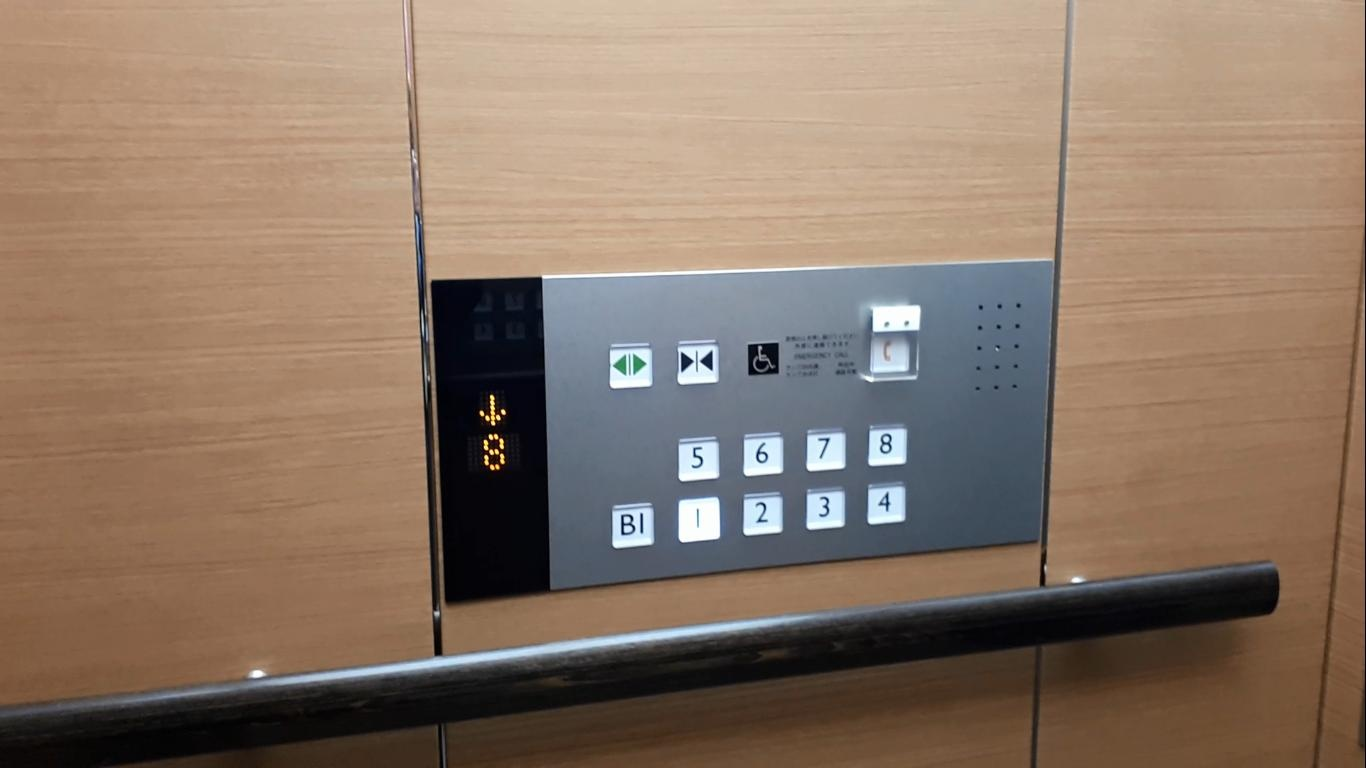1: (675, 493, 724, 546)
2: (739, 489, 788, 540)
3: (802, 484, 849, 534)
4: (863, 478, 910, 529)
5: (675, 433, 723, 487)
6: (739, 428, 788, 481)
7: (801, 424, 849, 475)
8: (864, 420, 912, 471)
B1: (609, 500, 659, 552)
CH: (745, 339, 782, 379)
call: (863, 301, 924, 386)
close: (674, 336, 724, 389)
led: (427, 271, 553, 612)
open: (606, 340, 657, 393)
